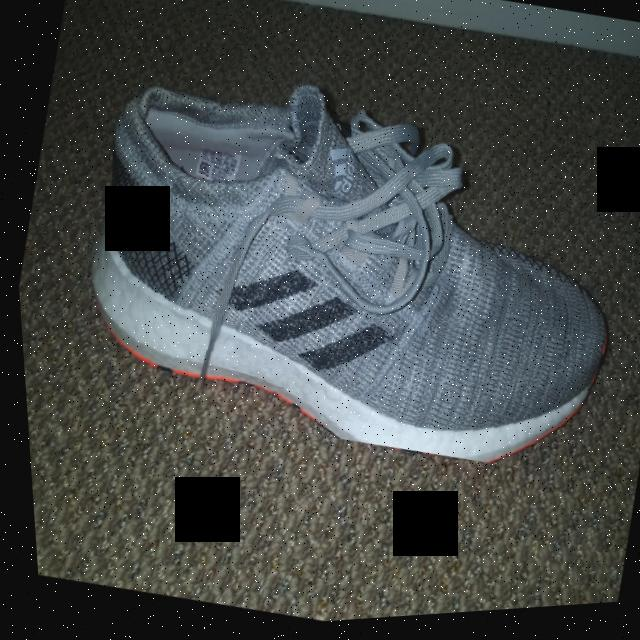shoe: (39, 6, 640, 518)
